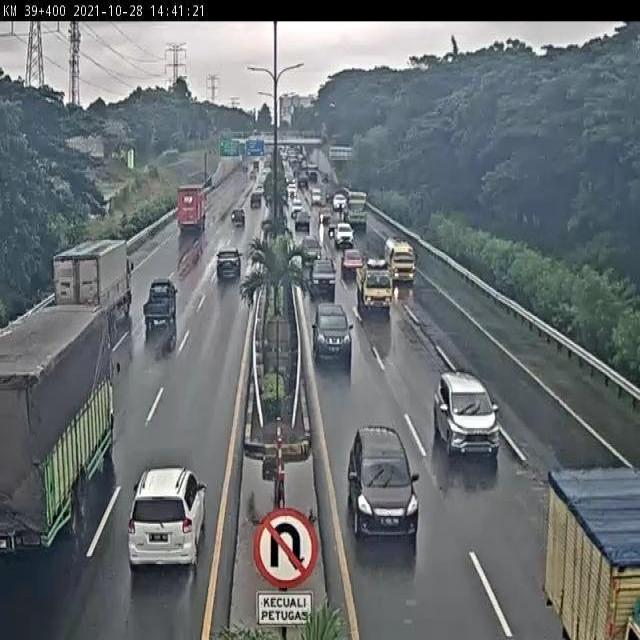car: (125, 465, 206, 568), (347, 425, 419, 540), (433, 369, 502, 456), (311, 304, 353, 364), (143, 277, 177, 331), (309, 258, 337, 294), (215, 247, 242, 280)
mid truck: (0, 303, 121, 545), (51, 238, 134, 330)
small truck: (355, 259, 393, 316)
truck-m-: (381, 235, 416, 282)
